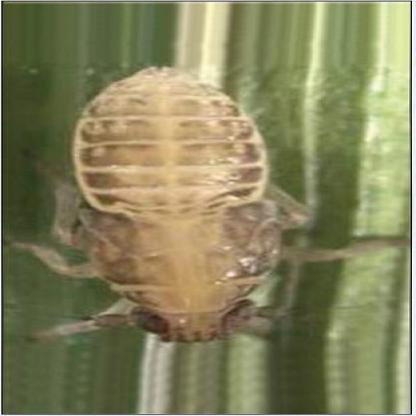brown-planthopper: (68, 64, 304, 346)
